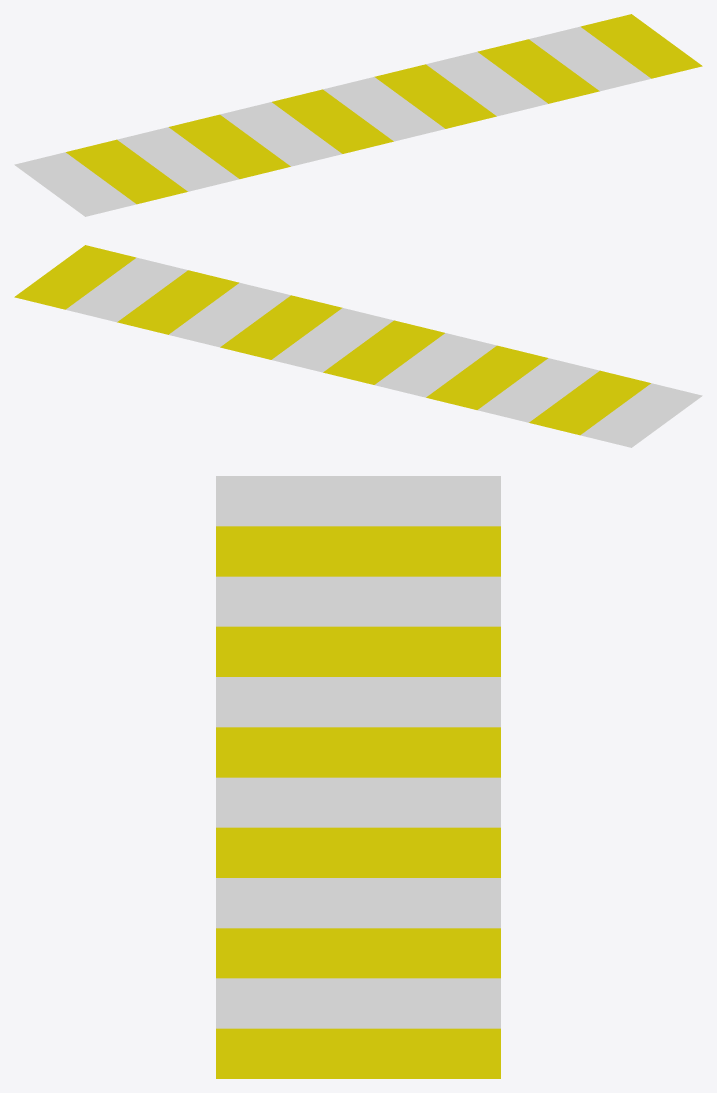
The picture shows the model from 3 angles, top to bottom: view 1: azimuth 30°, elevation 25°; view 2: azimuth 150°, elevation 25°; view 3: azimuth 270°, elevation 25°; orthographic projection. The views are drawn at different scales.
Parts seen in each view (by area): view 1: Plane; view 2: Plane; view 3: Plane.
Part boxes in pixels (box(x1,y1,x2,y2)): Plane: box(14, 14, 702, 216); Plane: box(14, 245, 702, 447); Plane: box(216, 476, 500, 1078).
Size of the model in its own units: 2000 by 6.52e-05 by 400.
